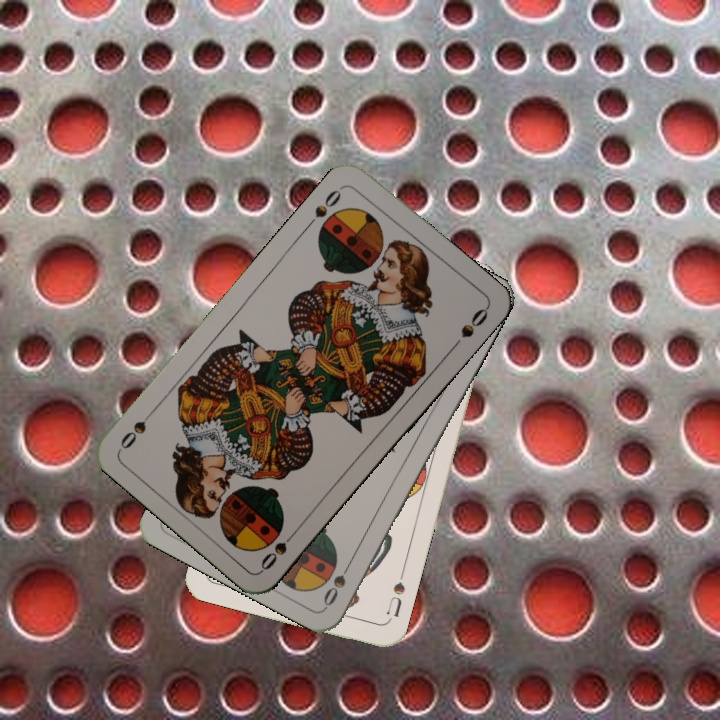SO: (256, 524, 301, 573), (303, 182, 347, 230), (319, 555, 356, 609)
SU: (382, 567, 408, 620)
